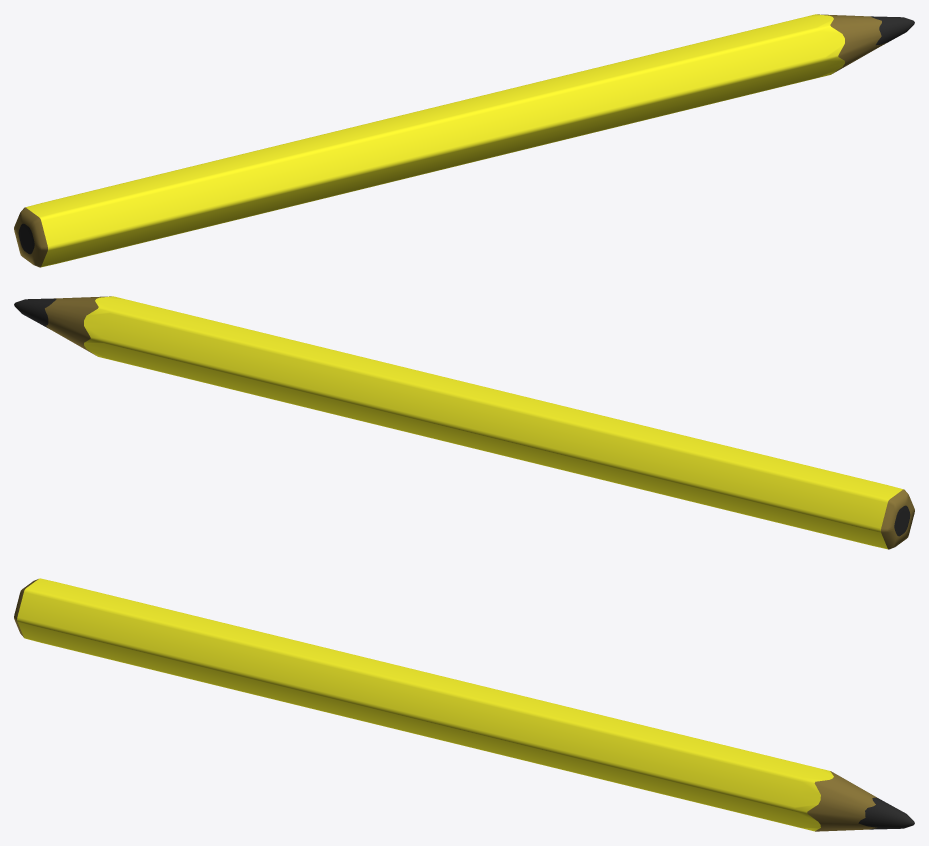
File: pencil.glb
3 views of the same model, one above another, from view 1: azimuth 30°, elevation 25°; view 2: azimuth 150°, elevation 25°; view 3: azimuth 330°, elevation 25° (orthographic).
Parts seen in each view (by area): view 1: pencil; view 2: pencil; view 3: pencil.
Part boxes in pixels (<box>): pencil: <box>14,14,914,267</box>; pencil: <box>14,296,914,549</box>; pencil: <box>14,578,914,831</box>.
Bounding box in the file's own units: 11.12 × 0.6057 × 0.6792.
